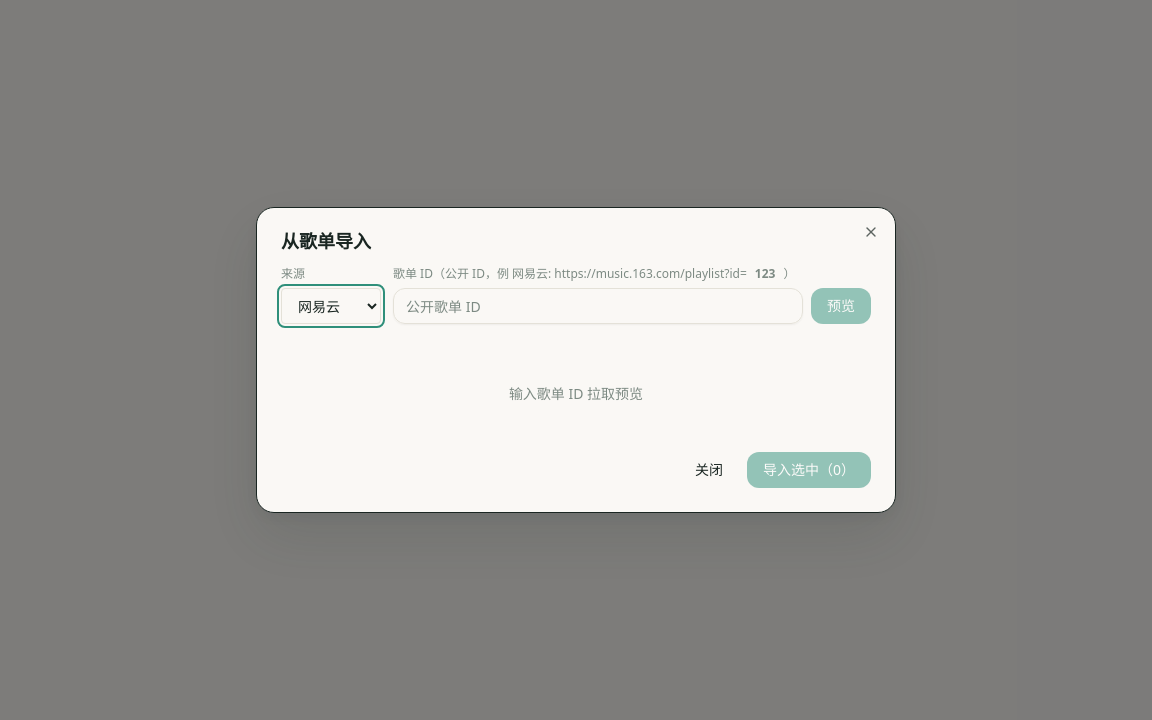
PlaylistImportDialog › 导入后显示结果（added/skipped/active/draft）
Type "123" into the field with test id "playlist-id-input" at (598, 306), box [393, 288, 803, 324]
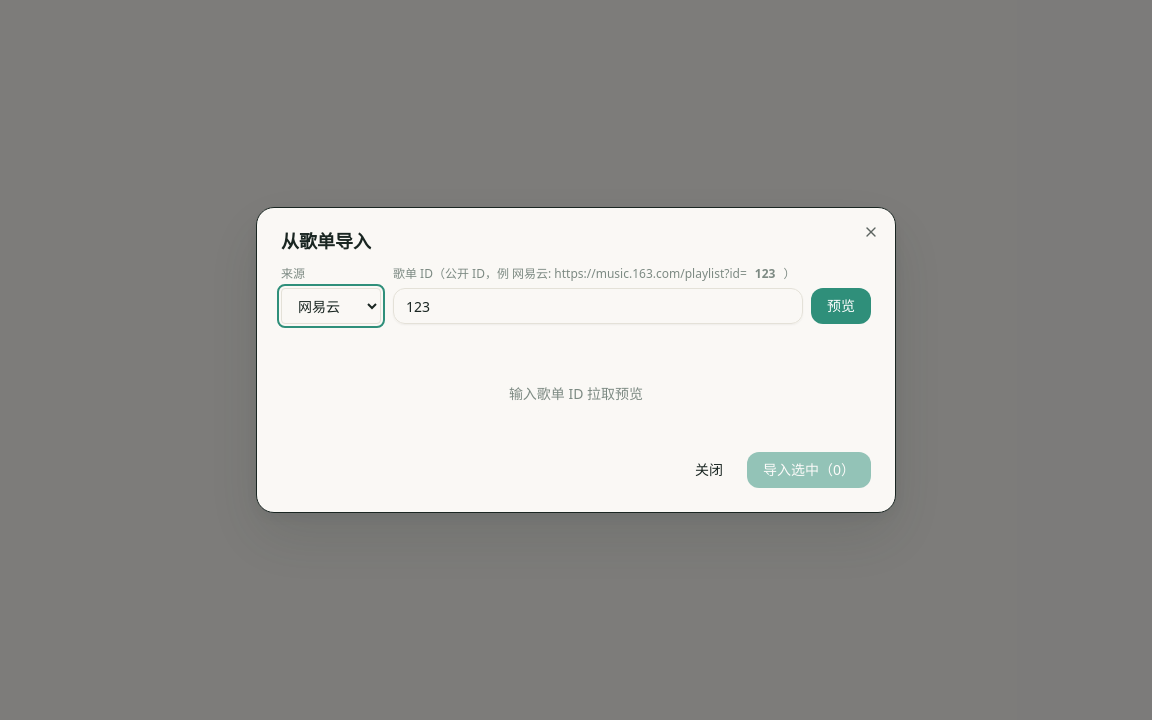
Click the button with test id "preview-button" at (841, 306), box [811, 288, 871, 324]
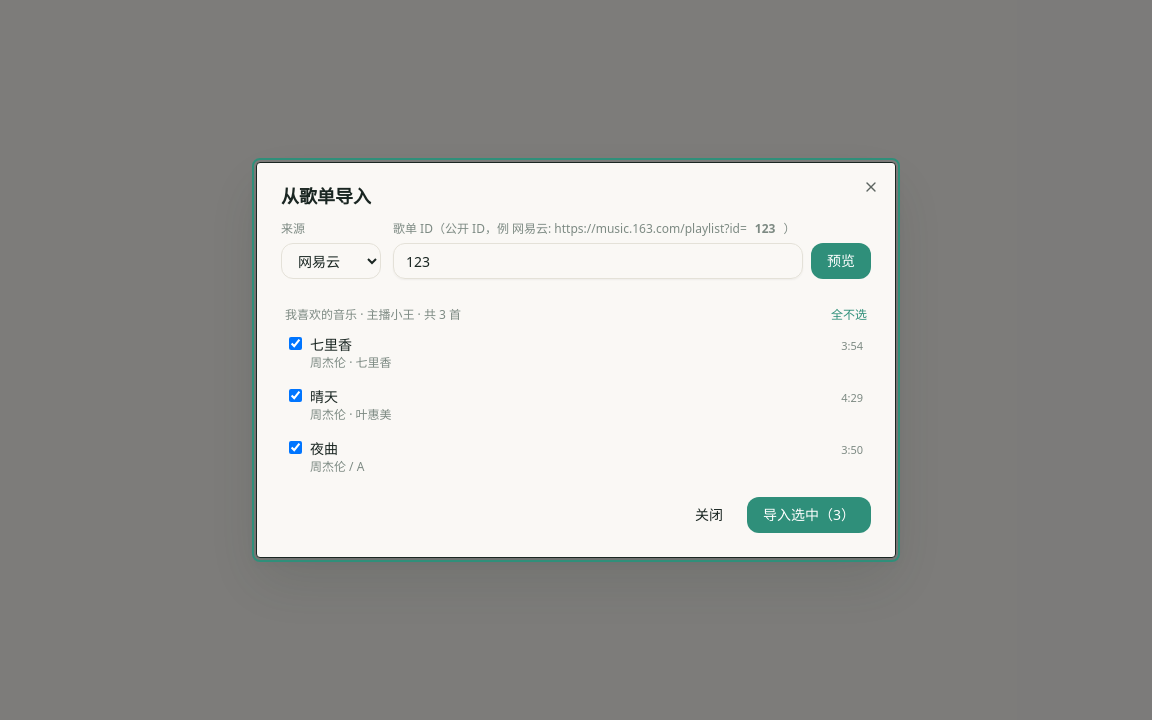
Expected: the list with test id "song-list" is shown, [281, 329, 871, 481]
Click the button with test id "import-button" at (809, 515), box [747, 497, 871, 533]
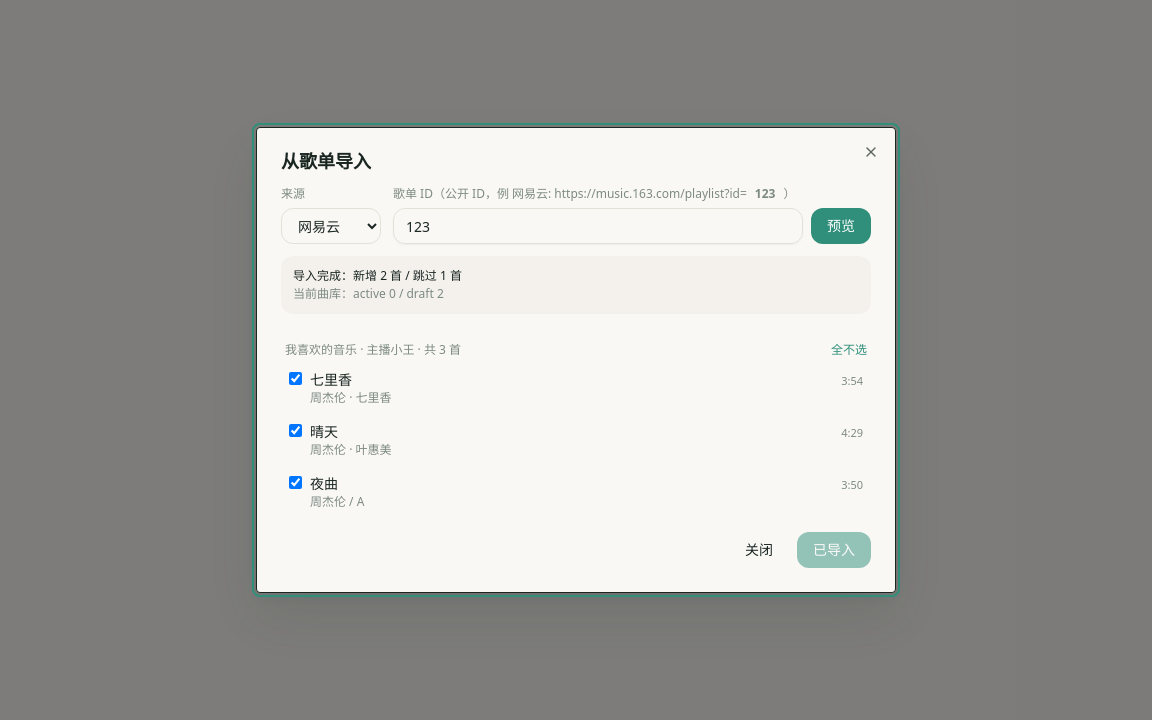
Expected: the element with test id "import-result" shows "新增 2 首", [281, 256, 871, 314]
Expected: the element with test id "import-result" shows "跳过 1 首", [281, 256, 871, 314]
Expected: the element with test id "import-result" shows "active 0", [281, 256, 871, 314]
